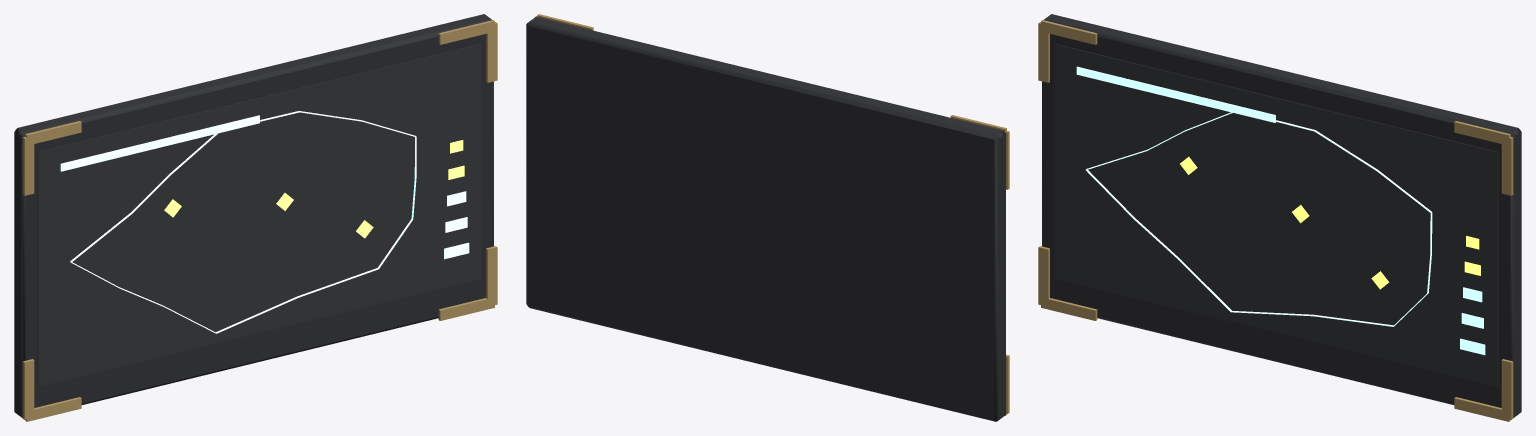
File: int_wall_screen.glb
3 renders of one model, left to right at view 1: azimuth 30°, elevation 25°; view 2: azimuth 150°, elevation 25°; view 3: azimuth 330°, elevation 25°, orthographic.
Parts seen in each view (by area): view 1: kit_int_wall_screen_screen_glow, kit_int_wall_screen_dark_metal, kit_int_wall_screen_trim_metal, kit_int_wall_screen_glow, kit_int_wall_screen_alert_glow; view 2: kit_int_wall_screen_dark_metal, kit_int_wall_screen_trim_metal; view 3: kit_int_wall_screen_screen_glow, kit_int_wall_screen_dark_metal, kit_int_wall_screen_trim_metal, kit_int_wall_screen_glow, kit_int_wall_screen_alert_glow.
Boxes of the visible parts, x1,y1,x2,y2 form: kit_int_wall_screen_screen_glow: (37, 44, 481, 386); kit_int_wall_screen_dark_metal: (14, 14, 493, 417); kit_int_wall_screen_trim_metal: (22, 20, 497, 421); kit_int_wall_screen_glow: (60, 111, 469, 333); kit_int_wall_screen_alert_glow: (164, 140, 464, 238); kit_int_wall_screen_dark_metal: (526, 16, 1005, 421); kit_int_wall_screen_trim_metal: (536, 14, 1009, 415); kit_int_wall_screen_screen_glow: (1054, 44, 1498, 386); kit_int_wall_screen_dark_metal: (1042, 14, 1521, 417); kit_int_wall_screen_trim_metal: (1038, 20, 1513, 421); kit_int_wall_screen_glow: (1076, 66, 1485, 355); kit_int_wall_screen_alert_glow: (1180, 156, 1480, 289).
Size of the model in its own units: 1.9 by 1.1 by 0.082.
